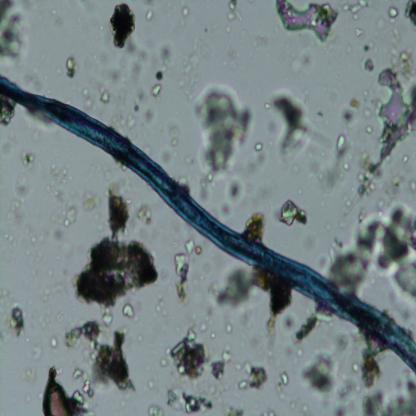Air bubble: (378, 68, 410, 160), (276, 0, 331, 41)
Background material: (75, 193, 159, 302), (330, 203, 416, 300), (62, 300, 134, 392), (190, 83, 253, 183), (210, 266, 294, 335), (162, 325, 232, 383), (150, 383, 246, 416), (270, 92, 313, 158), (336, 381, 416, 416), (42, 366, 92, 416), (170, 236, 202, 300), (348, 332, 385, 387), (0, 0, 30, 65), (117, 85, 158, 132), (179, 36, 213, 86), (386, 27, 415, 80), (111, 44, 149, 84), (305, 349, 337, 394), (107, 2, 137, 50), (293, 306, 331, 341), (10, 148, 35, 199), (356, 154, 382, 202), (3, 199, 25, 247), (306, 160, 343, 188), (233, 361, 267, 390), (342, 1, 368, 36), (74, 183, 101, 213), (23, 223, 44, 261), (155, 29, 176, 66), (244, 207, 266, 241), (381, 165, 405, 196), (279, 200, 307, 226), (342, 99, 362, 130), (7, 304, 25, 336), (48, 160, 73, 183), (337, 133, 351, 171), (227, 180, 246, 207), (273, 369, 289, 400), (150, 70, 166, 100), (279, 340, 301, 360), (166, 118, 180, 147), (404, 0, 416, 32), (362, 42, 374, 74), (292, 53, 313, 71), (152, 299, 172, 317), (62, 204, 76, 228), (141, 6, 159, 24), (250, 32, 268, 50), (223, 48, 237, 71), (64, 54, 76, 79), (227, 1, 240, 24), (23, 364, 39, 382), (44, 184, 62, 200), (122, 300, 135, 322), (160, 144, 174, 164), (52, 224, 66, 244), (81, 87, 92, 112), (386, 5, 398, 26), (180, 2, 192, 20), (404, 176, 416, 194), (50, 7, 61, 26), (48, 333, 61, 349), (31, 346, 42, 362), (251, 138, 263, 152), (43, 286, 52, 304), (300, 401, 311, 415), (21, 390, 33, 402), (400, 152, 410, 166), (262, 98, 272, 112), (100, 88, 109, 103), (364, 124, 374, 136), (288, 163, 299, 173), (260, 410, 276, 416), (288, 400, 296, 410)
Cotton: (0, 75, 410, 350)
